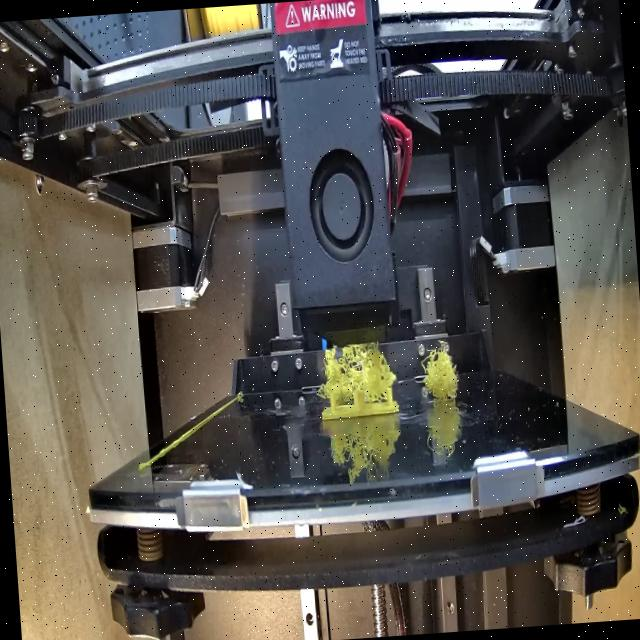spaghetti: (313, 330, 389, 401), (418, 346, 461, 404)
